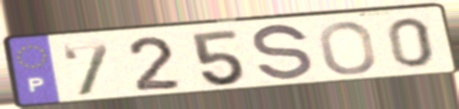0: (384, 15, 441, 71)
2: (126, 34, 186, 94)
5: (188, 27, 248, 88)
7: (60, 39, 113, 98)
O: (316, 19, 379, 77)
S: (250, 21, 316, 85)
